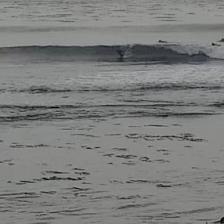surfer: (117, 50, 125, 56), (210, 42, 220, 46), (158, 39, 167, 43), (219, 38, 223, 42)
